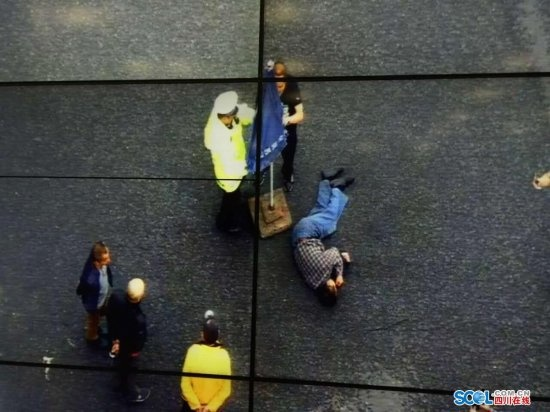falling: (283, 163, 361, 303)
